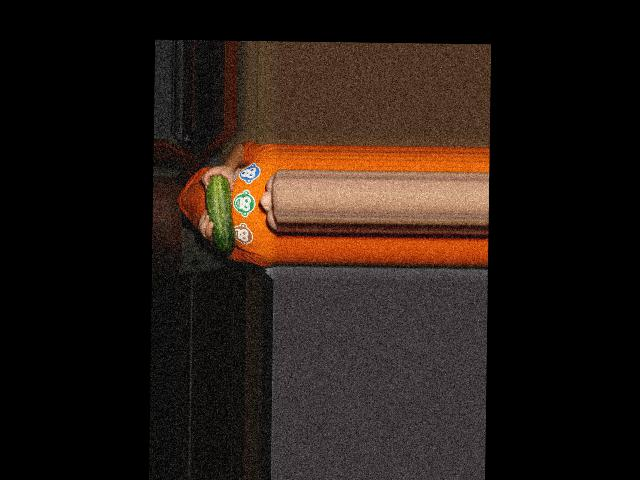cucumber: (205, 174, 236, 254)
